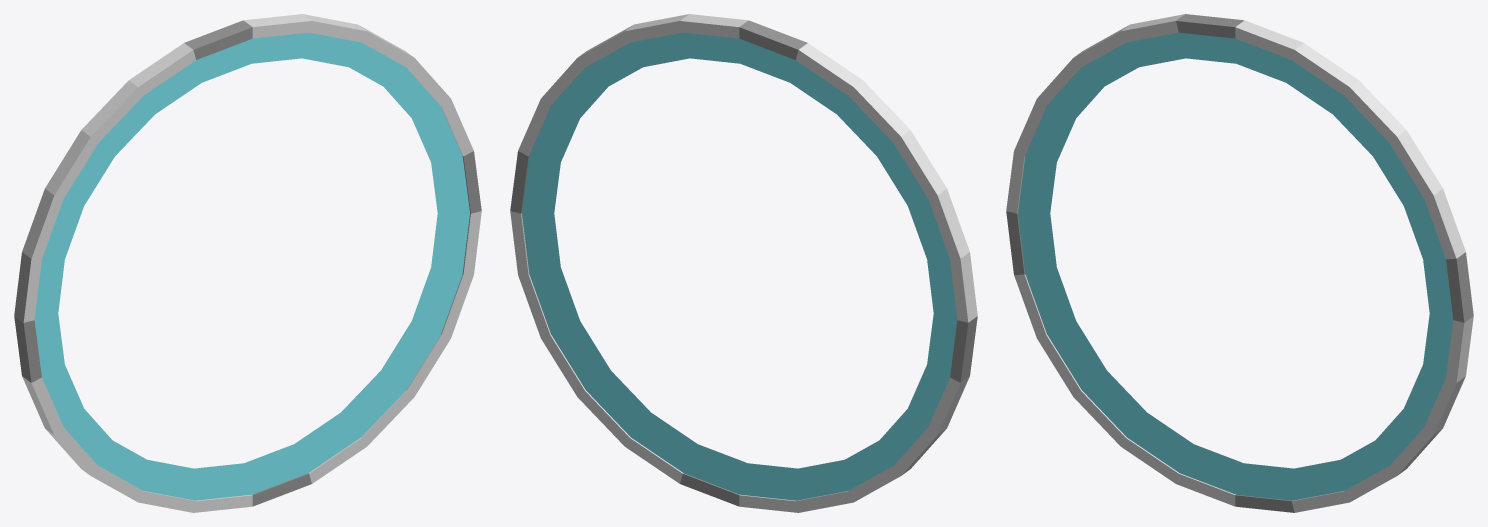
Rendered from holo_ring.obj.
The picture shows the model from 3 angles, left to right: view 1: azimuth 30°, elevation 25°; view 2: azimuth 150°, elevation 25°; view 3: azimuth 330°, elevation 25°; orthographic projection.
Parts seen in each view (by area): view 1: glow; view 2: glow; view 3: glow.
Part boxes in pixels (bbox=[...]): glow: bbox=[14, 14, 481, 512]; glow: bbox=[510, 14, 977, 512]; glow: bbox=[1006, 14, 1473, 512].
Bounding box in the file's own units: 16.8 × 16.8 × 0.6.
